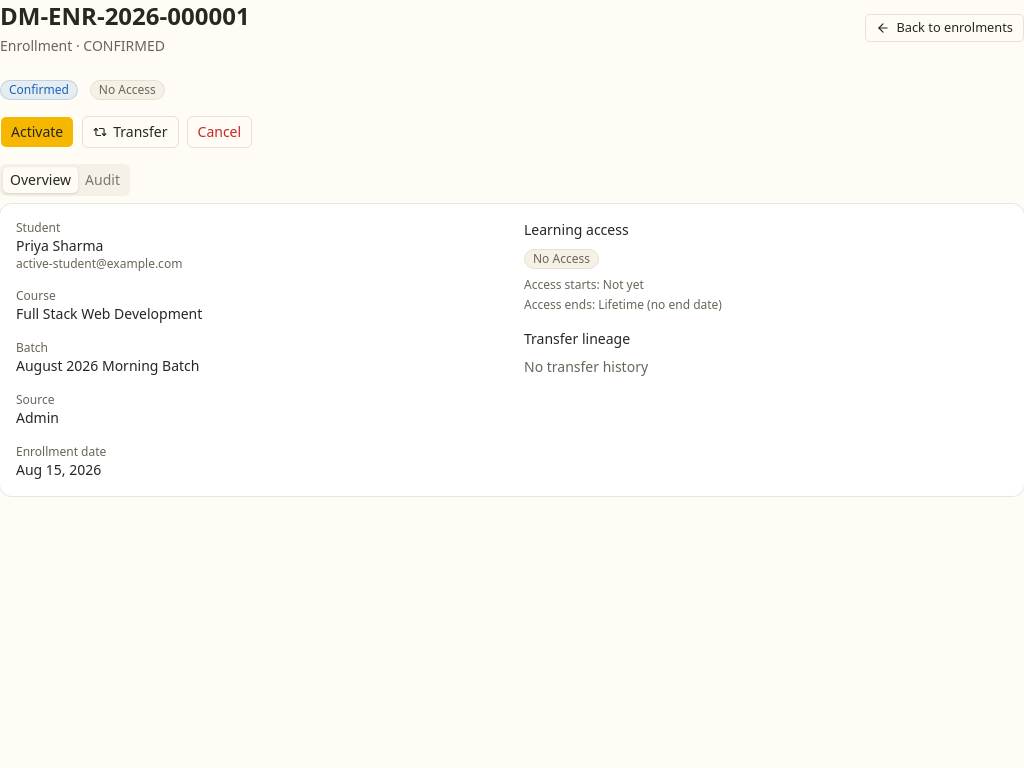
Scenario: EnrollmentDetailPage › cancels a CONFIRMED enrollment after confirmation
Expected: the heading "DM-ENR-2026-000001" is shown, [0,0,250,32]
Click the button "Cancel". click: (219, 132)
box: [186,116,252,148]
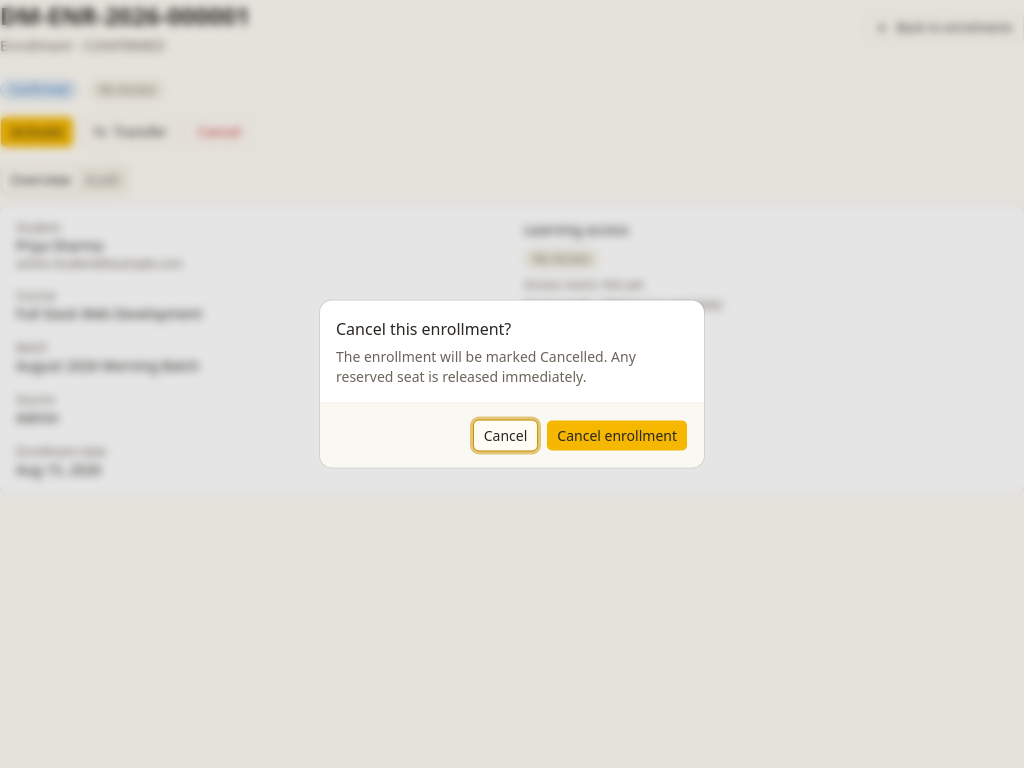
Click the button "Cancel enrollment". click: (617, 436)
box: [546,420,688,452]
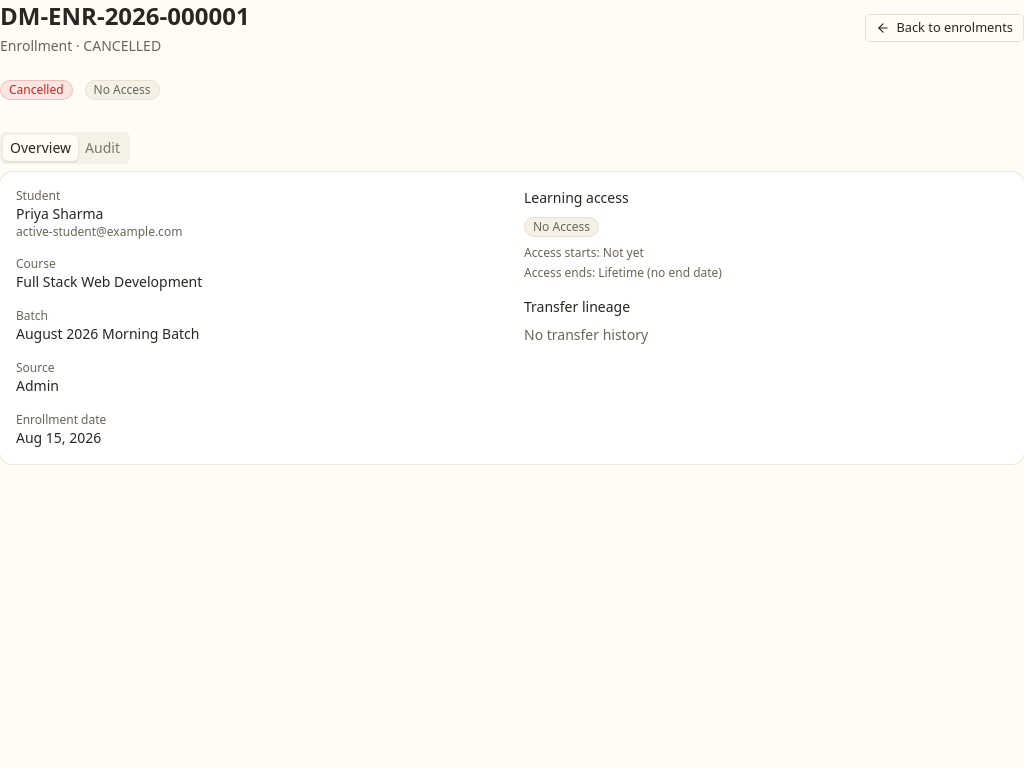
Result: the text "Cancelled" is shown at [0,80,73,100]
